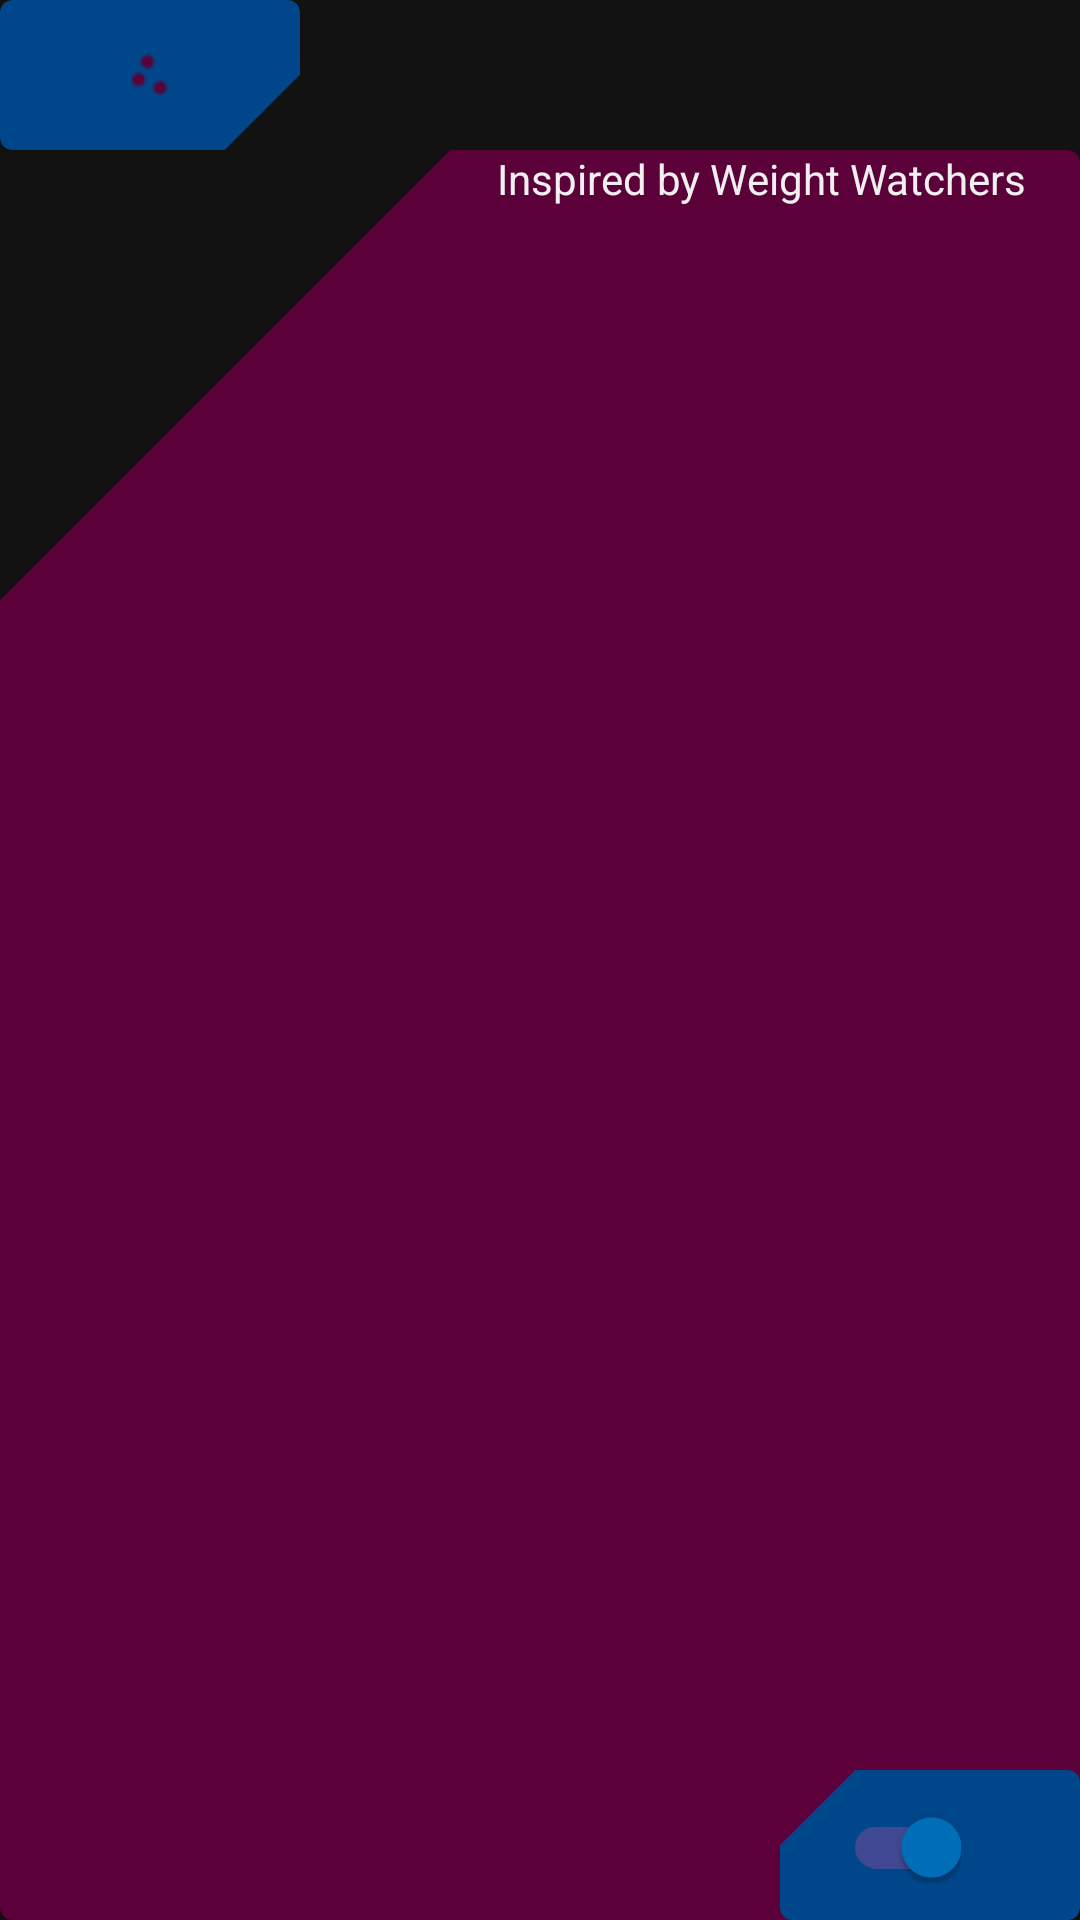

Named icons in this screenshot (1080x1920) and their bounding boxes, (x1, y1, x2, y2):
scatter image for fun: (131, 54, 168, 96)
